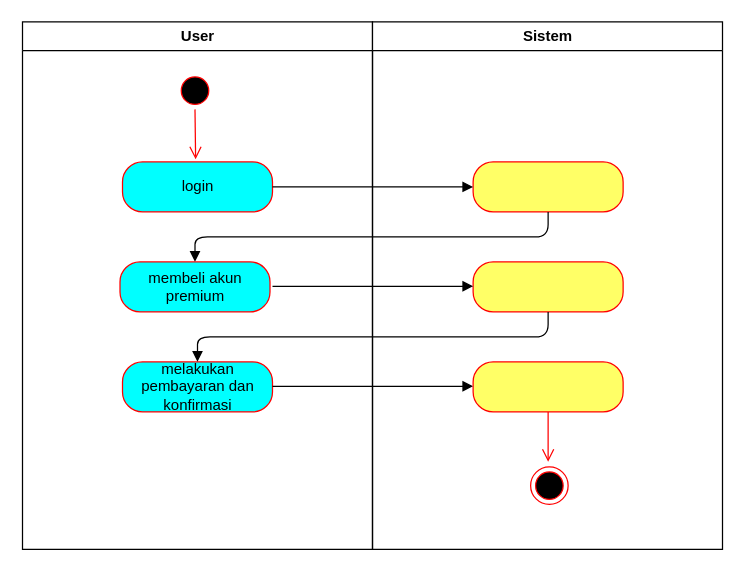
The diagram is 744 pixels wide and 571 high, and some of its shapes have lost their labels. The shapes that lost their labels are listed below. From the top down, each one's centre as x and y in pixels, then its label:
At pixel 547 186: "menampilkan halaman login".
At pixel 547 286: "menampilkan detail pembelian premium".
At pixel 547 386: "mengarahkan ke whatsapp untuk konfirmasi".
